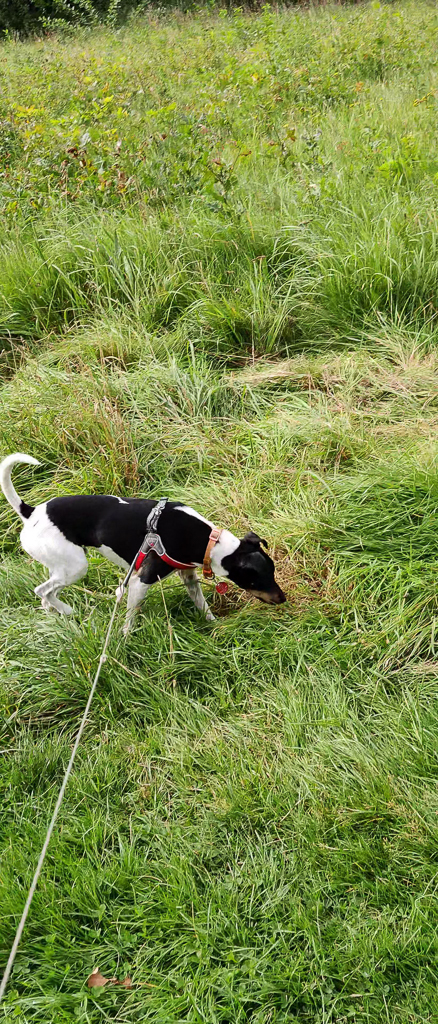Dog: (0, 438, 302, 643)
